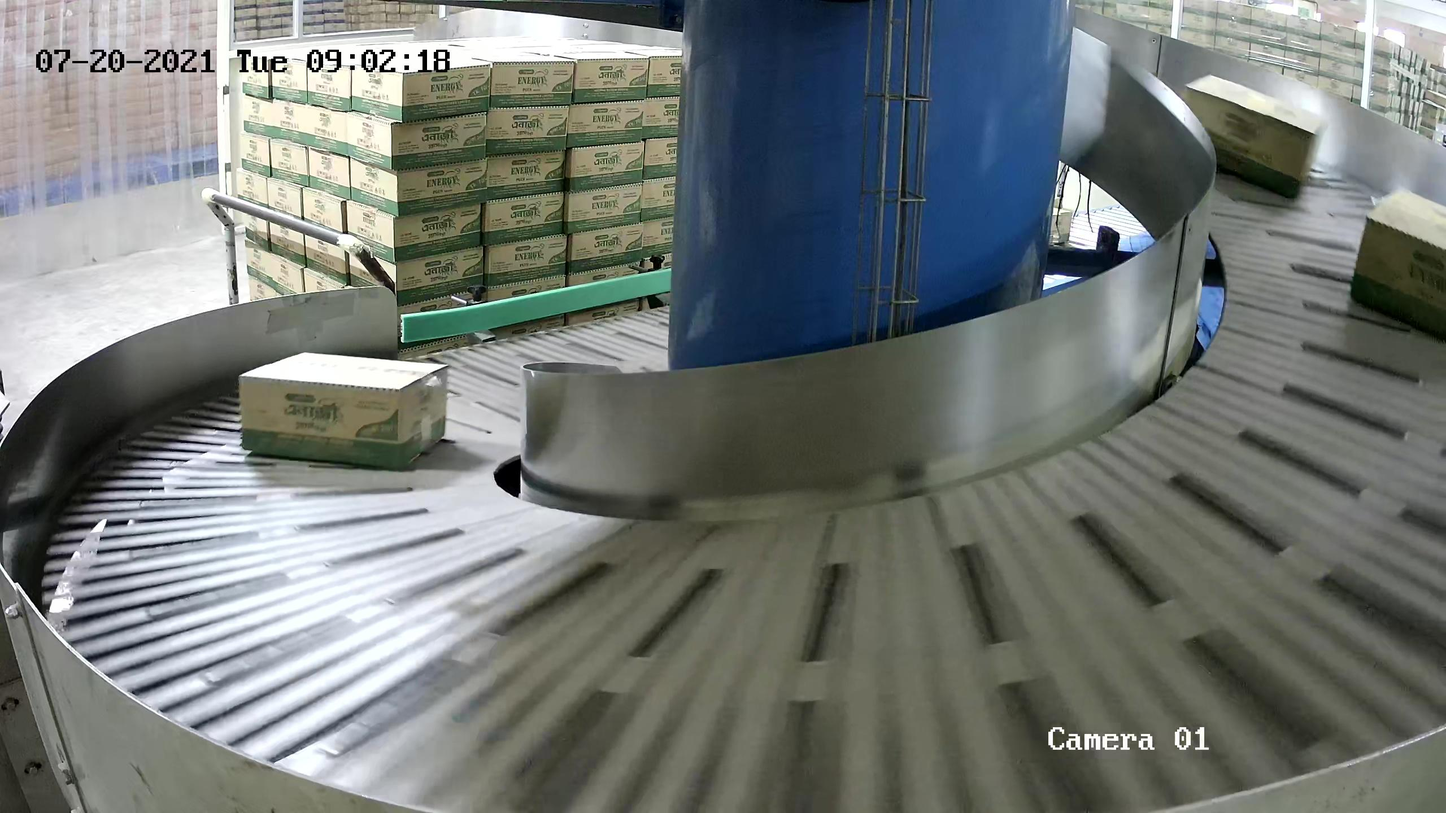Box: (237, 350, 450, 471), (1184, 73, 1324, 198), (1350, 185, 1446, 341)
